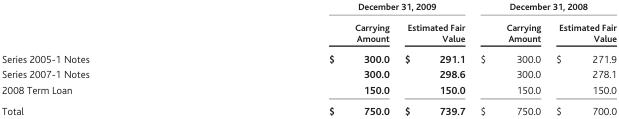table: (1, 1, 615, 116)
table column: (1, 1, 208, 116), (208, 1, 396, 116), (396, 1, 472, 116), (472, 1, 547, 116), (547, 1, 615, 116)
table column header: (1, 1, 615, 47)
table row: (1, 16, 615, 47), (1, 47, 615, 66), (1, 81, 615, 100), (1, 100, 615, 116), (1, 1, 615, 16), (1, 66, 615, 81)
table spanning cell: (208, 1, 472, 16), (472, 1, 615, 16)
